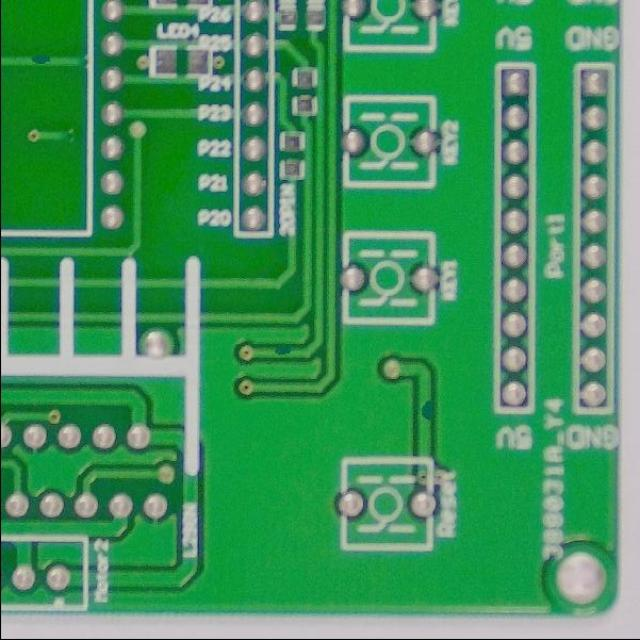mouse_bite: (411, 391, 442, 432), (270, 336, 293, 366), (26, 48, 53, 72)
